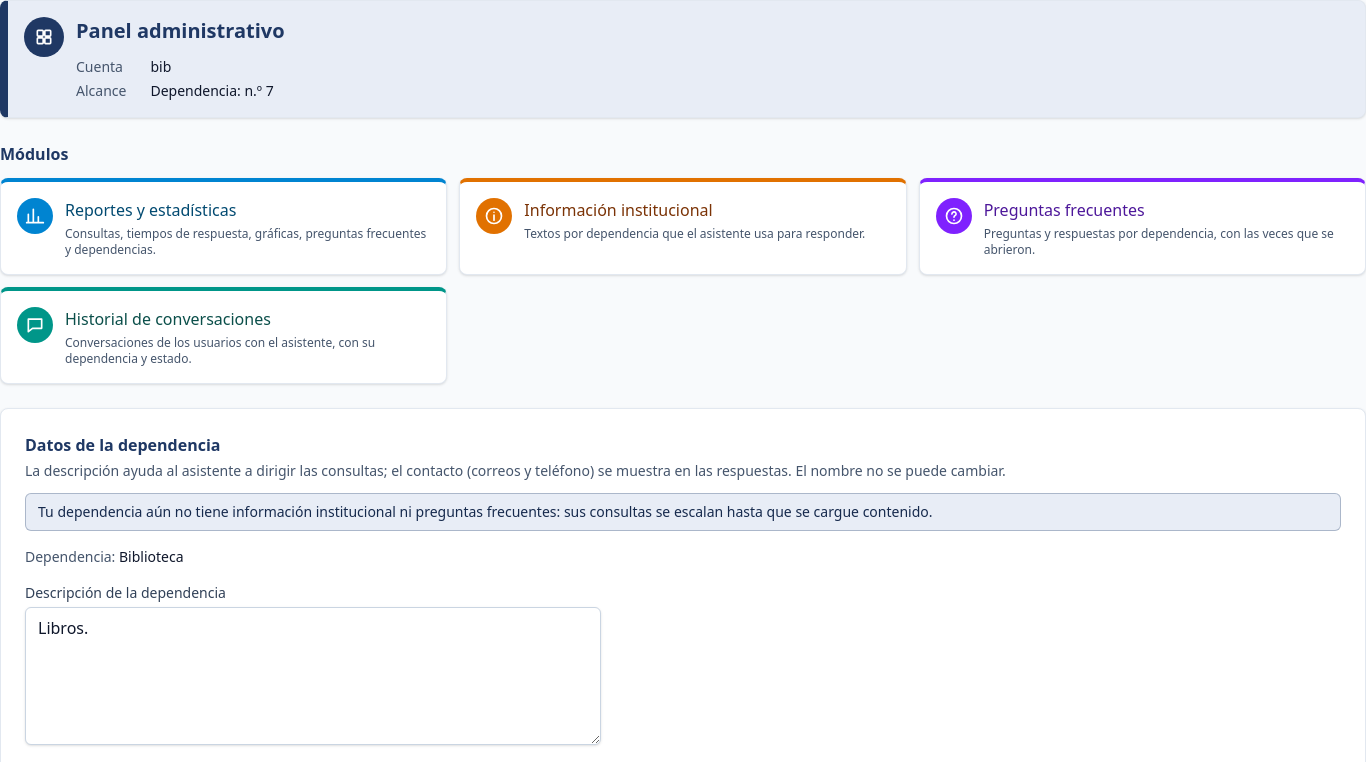
it: administrador de una dependencia › guarda descripción y contacto, y envía los correos como lista
Replace the text in the text box labelled "Descripción de la dependencia" with "Préstamos." at [313, 676], box left=25, top=607, right=601, bottom=745
(page scrolled)
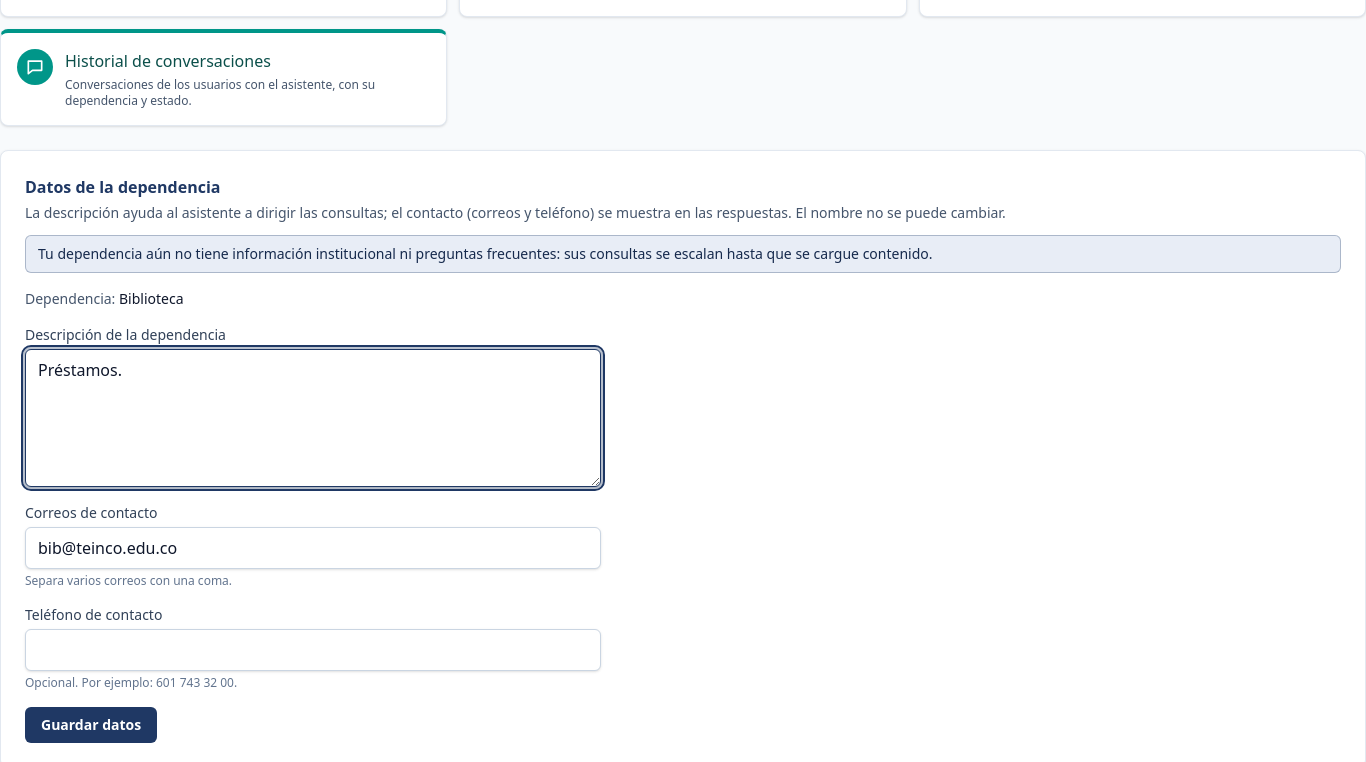
Replace the text in the field labelled "Correos de contacto" with "a@teinco.edu.co, b@teinco.edu.co" at [313, 548], box left=25, top=527, right=601, bottom=569
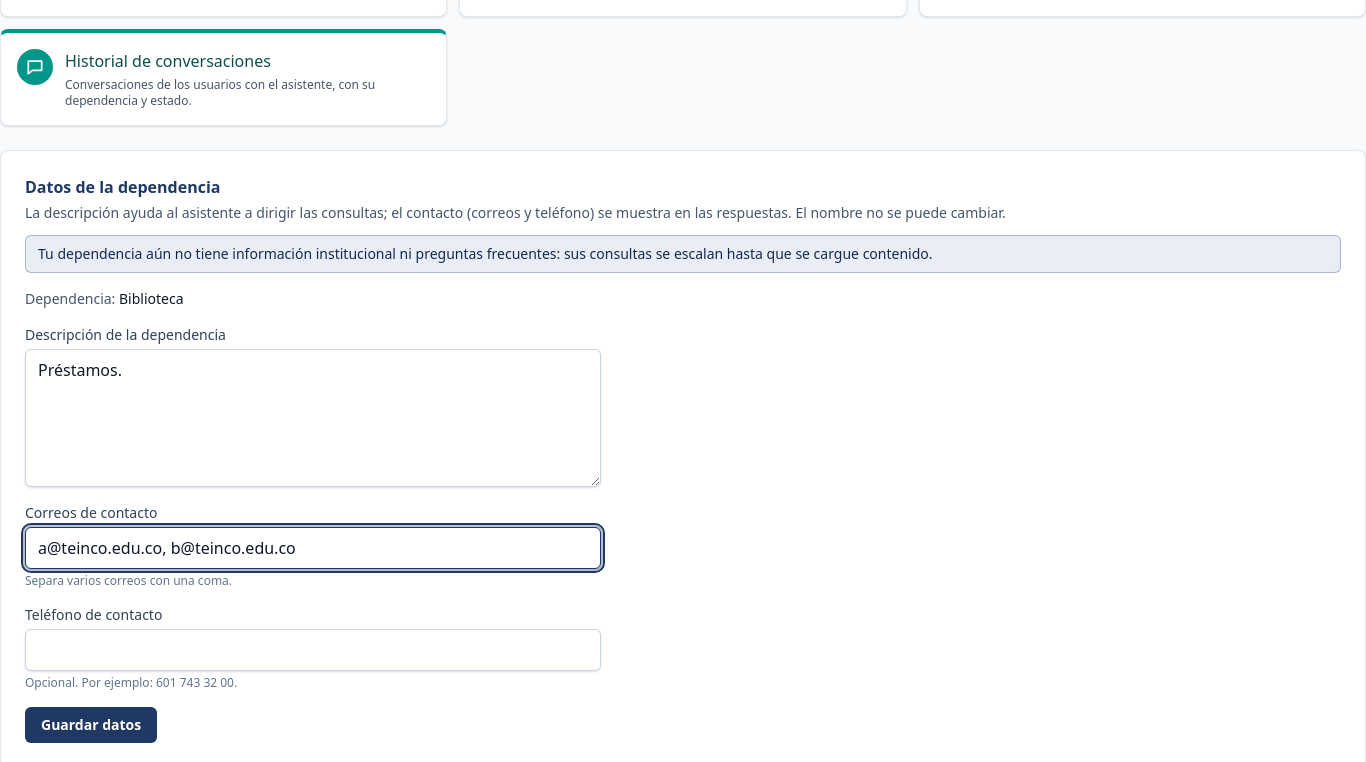
Type "601 111 22 33" into the field labelled "Teléfono de contacto" at [313, 650], box left=25, top=629, right=601, bottom=671
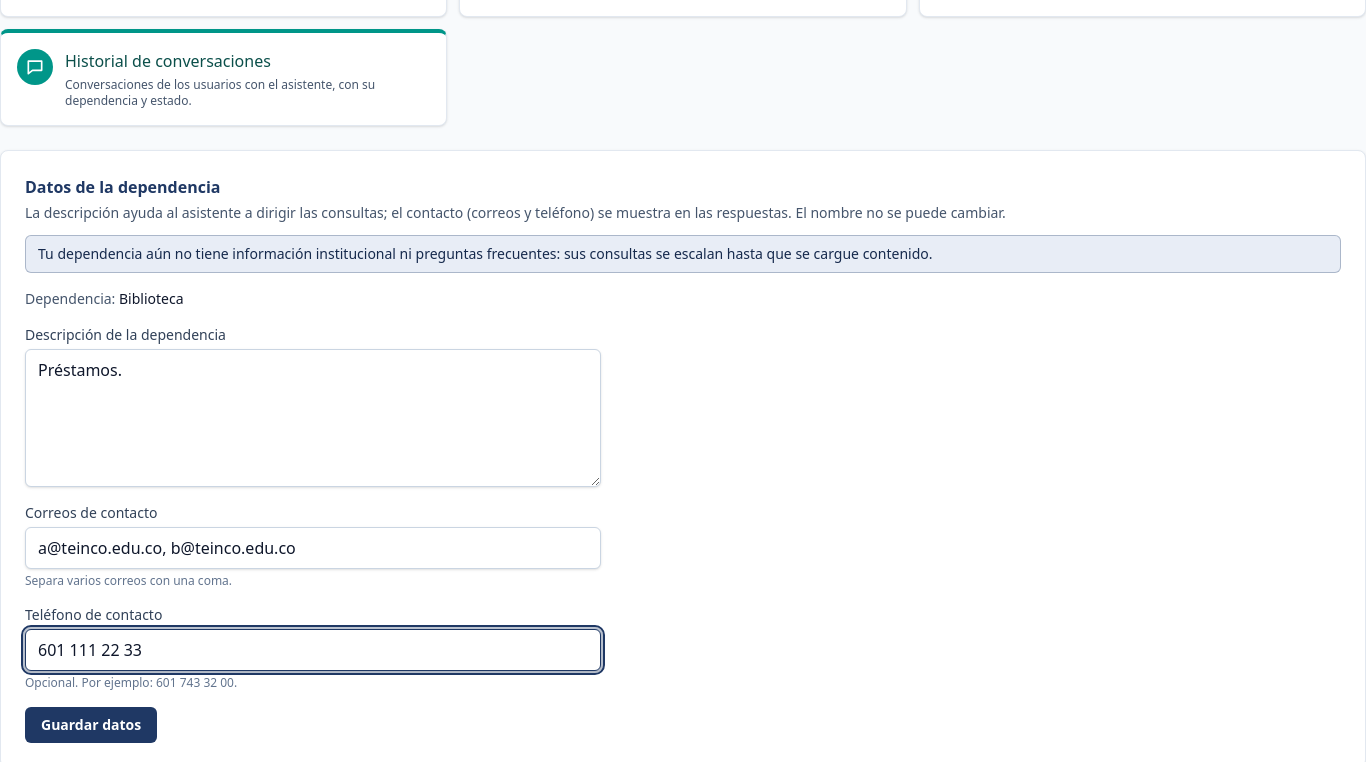
Click the button "Guardar datos" at [91, 725], box left=25, top=707, right=157, bottom=743
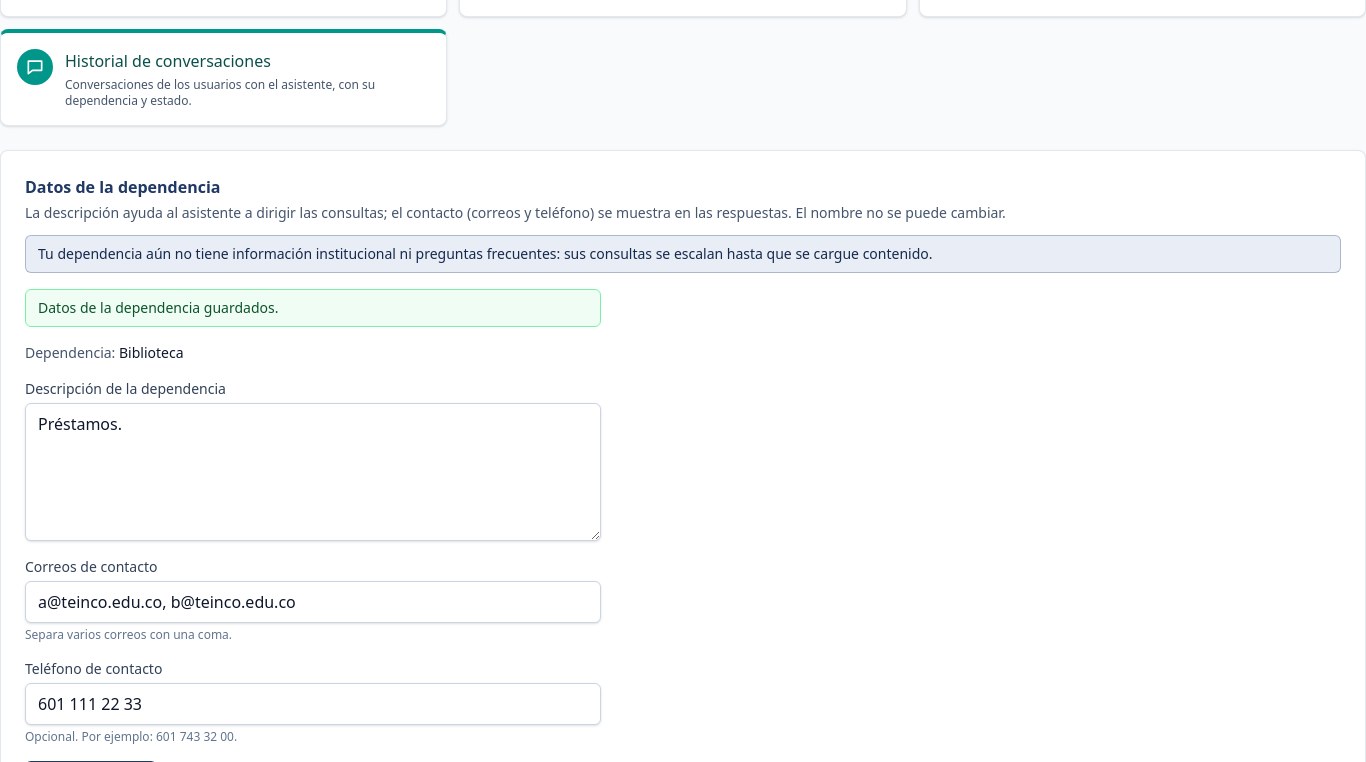
Expected: the text "Datos de la dependencia guardados." is shown, left=25, top=289, right=601, bottom=327
